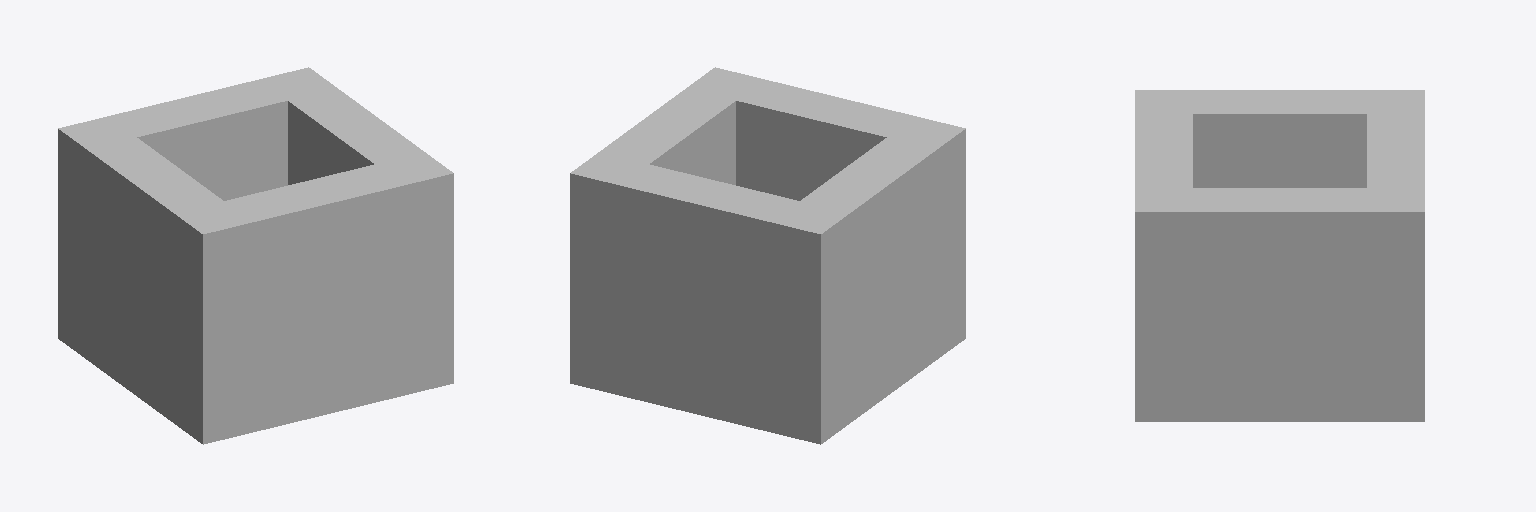
Rendered from E2-Exp-p02.obj.
The picture shows the model from 3 angles: view 1: azimuth 30°, elevation 25°; view 2: azimuth 150°, elevation 25°; view 3: azimuth 270°, elevation 25°; orthographic projection.
Parts seen in each view (by area): view 1: mesh1, mesh0, mesh5, mesh9, mesh7; view 2: mesh3, mesh0, mesh5, mesh8, mesh7; view 3: mesh2, mesh5, mesh6.
Part boxes in pixels (left/top/right/bottom): mesh1: left=203, top=173, right=453, bottom=444; mesh0: left=58, top=129, right=202, bottom=443; mesh5: left=58, top=67, right=452, bottom=233; mesh9: left=137, top=101, right=287, bottom=200; mesh7: left=288, top=101, right=373, bottom=184; mesh3: left=570, top=173, right=820, bottom=444; mesh0: left=821, top=129, right=965, bottom=443; mesh5: left=571, top=67, right=965, bottom=233; mesh8: left=736, top=101, right=886, bottom=200; mesh7: left=650, top=101, right=735, bottom=184; mesh2: left=1135, top=212, right=1424, bottom=421; mesh5: left=1135, top=90, right=1424, bottom=211; mesh6: left=1193, top=114, right=1366, bottom=187.
Size of the model in its own units: 0.1 by 0.08 by 0.1.